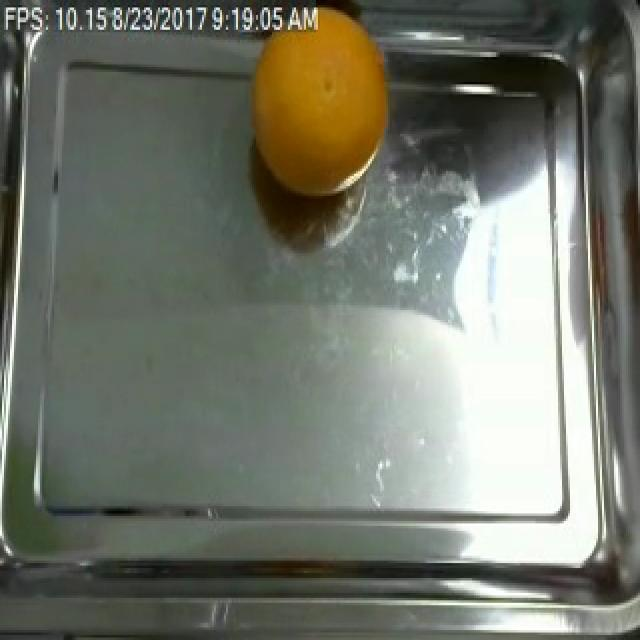Fruit: (238, 0, 400, 208)
